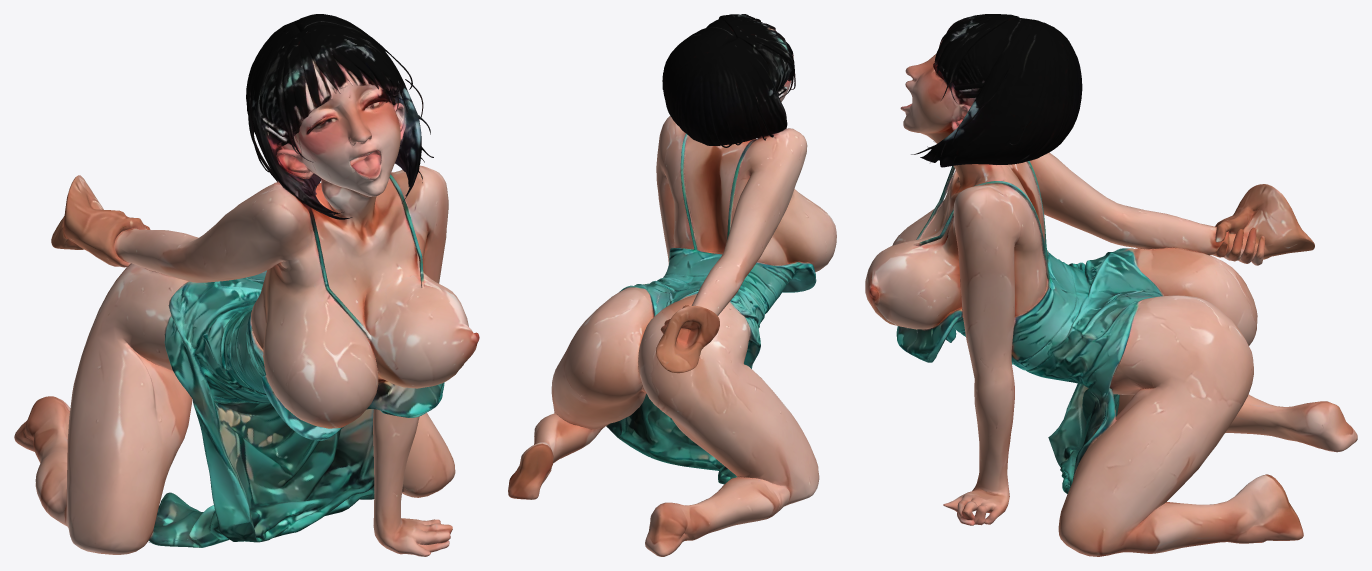
The picture shows the model from 3 angles, left to right: view 1: azimuth 30°, elevation 25°; view 2: azimuth 150°, elevation 25°; view 3: azimuth 270°, elevation 25°; orthographic projection. The views are drawn at different scales.
Visible parts, largest first — view 1: model; view 2: model; view 3: model.
Part boxes in pixels (x1,y1,x2,y2): model: (14, 14, 479, 556); model: (508, 14, 836, 556); model: (865, 14, 1357, 556).
Bounding box in the file's own units: 1.15 × 1.65 × 1.57.
Materials: 1 (1 with a texture image).
